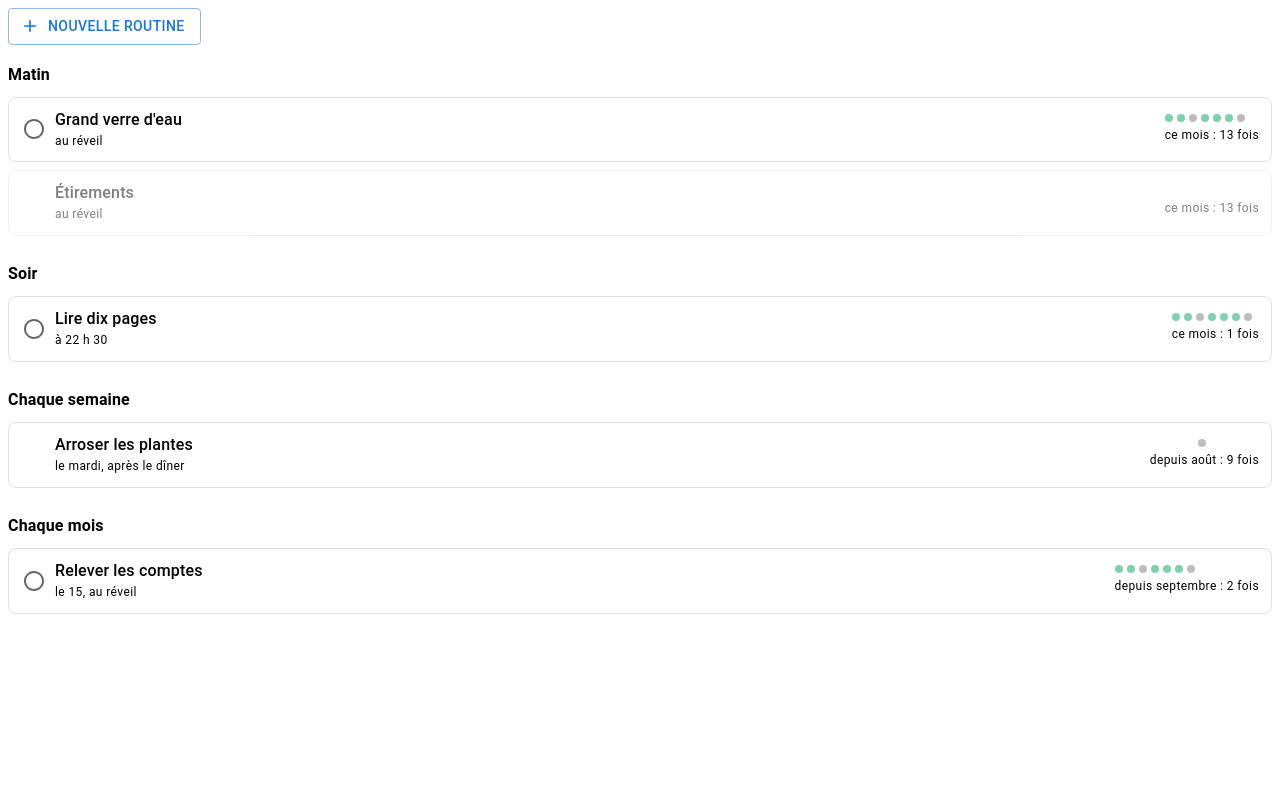
Scenario: TaskRoutines (MAG-511) › « Annuler » the confirmation deletes nothing
Check: the text "Lire dix pages" is shown, box [55,307,157,331]
Click the button "Lire dix pages à 22 h 30 ce mois : 1 fois": (106, 319) [55,297,1271,361]
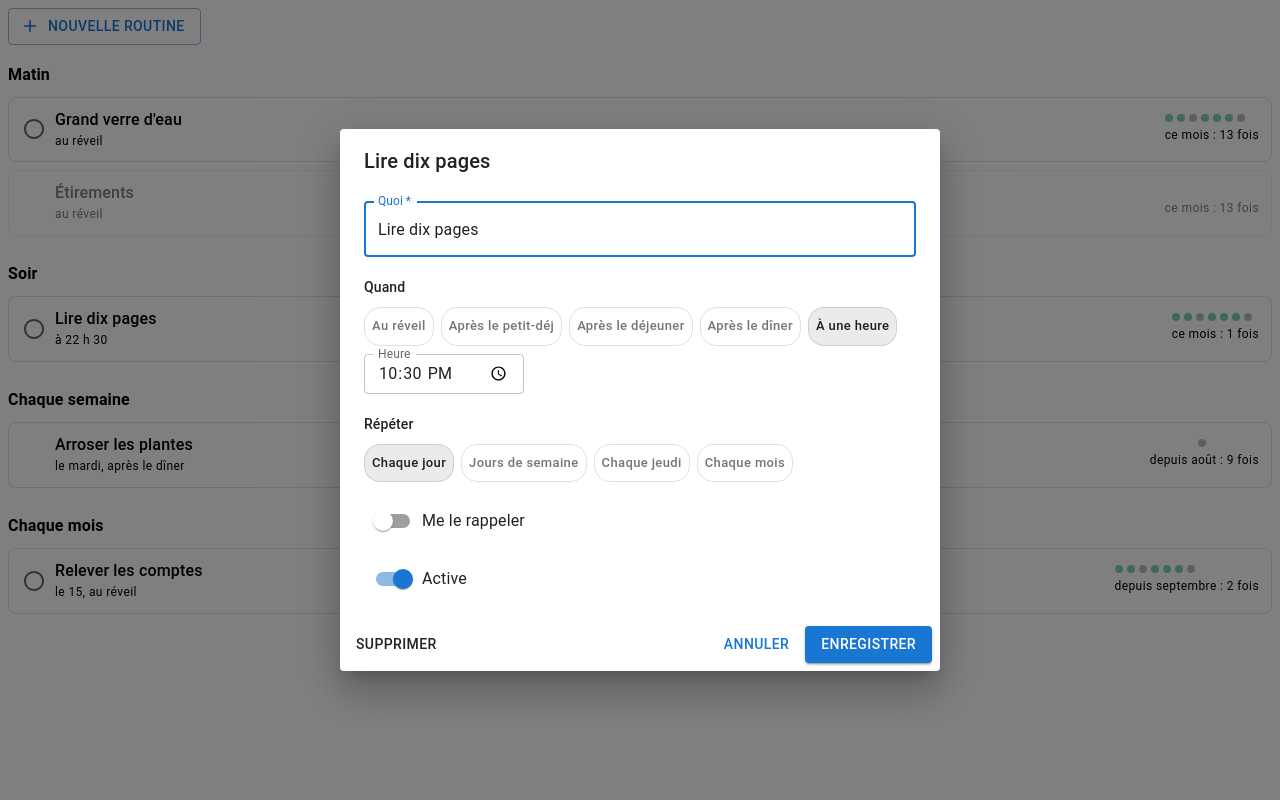
Click the button "Supprimer": (396, 645) [348,626,445,663]
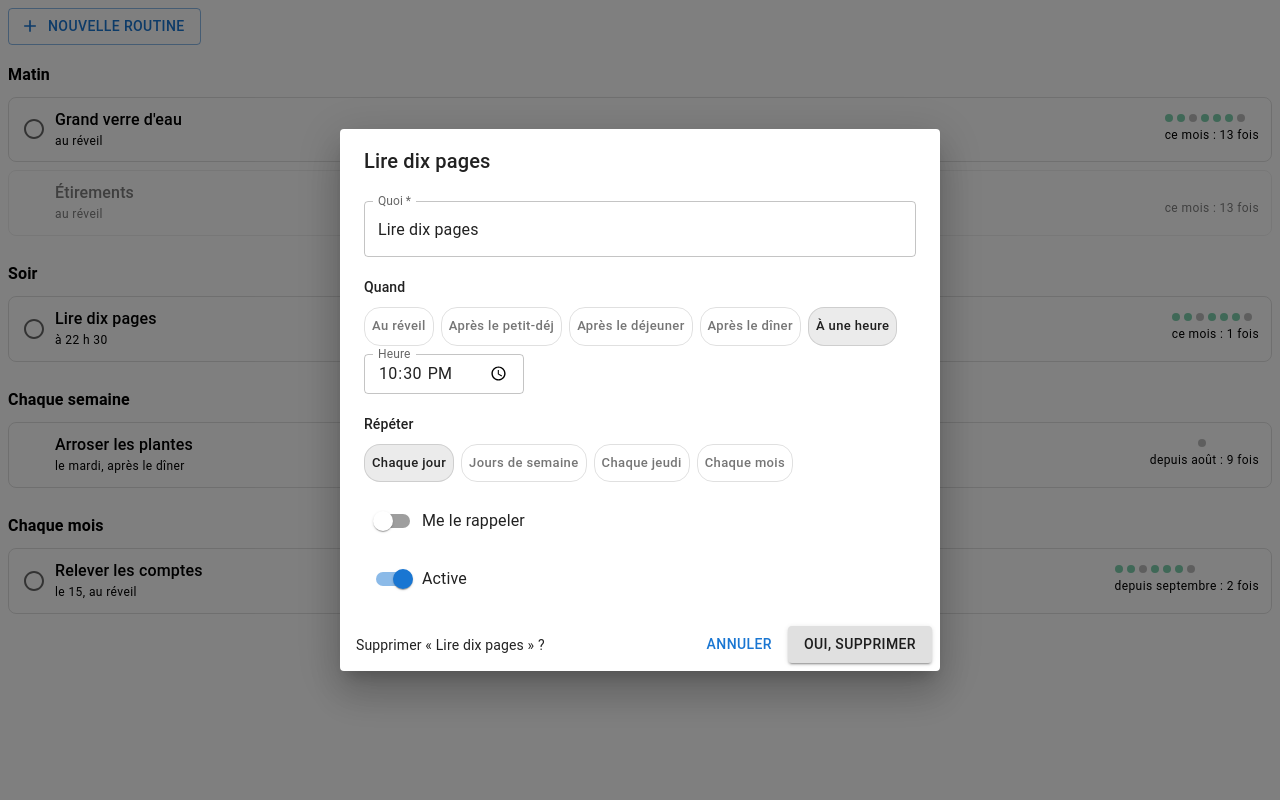
Click the button "Annuler": (739, 645) [699,626,780,663]
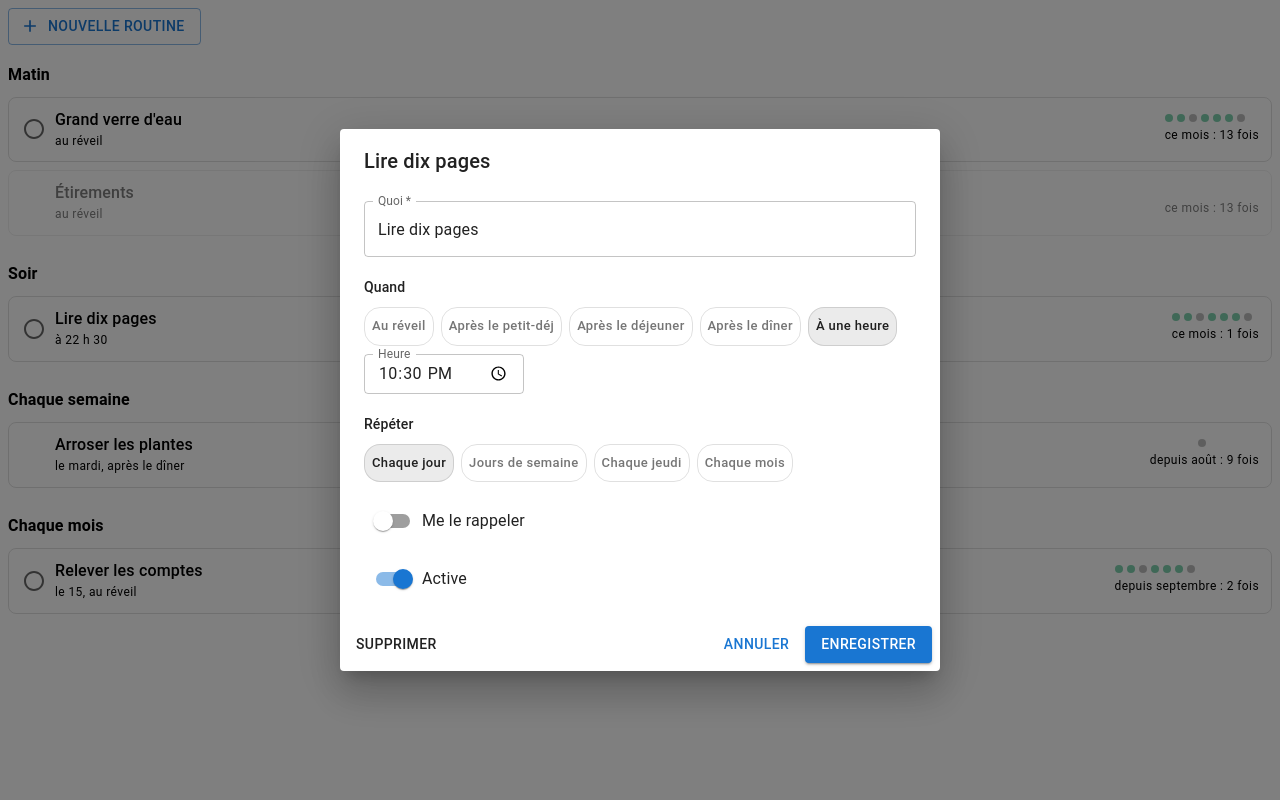
Check: the button "Enregistrer" is shown, box [805,626,932,663]
